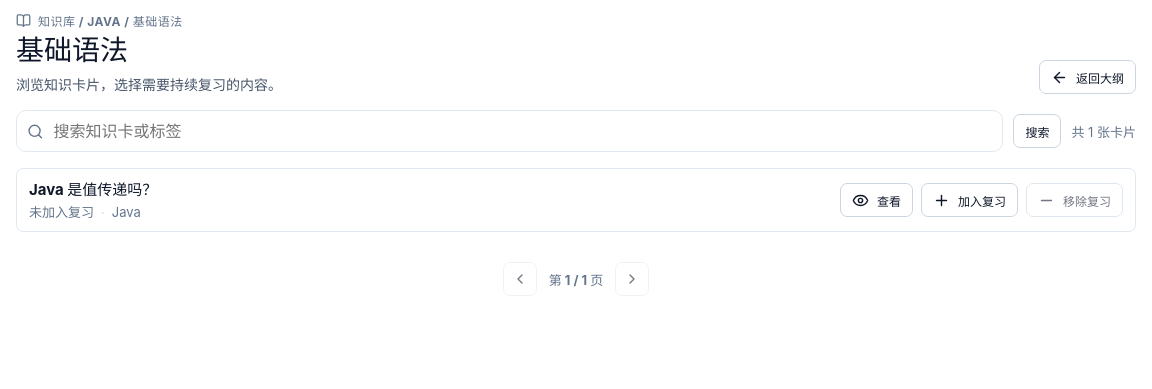
Scenario: 知识库分层导航 › 加入失败保留原状态，支持重新操作
Click the button "加入复习".
click(970, 200)  # box [921, 183, 1018, 217]
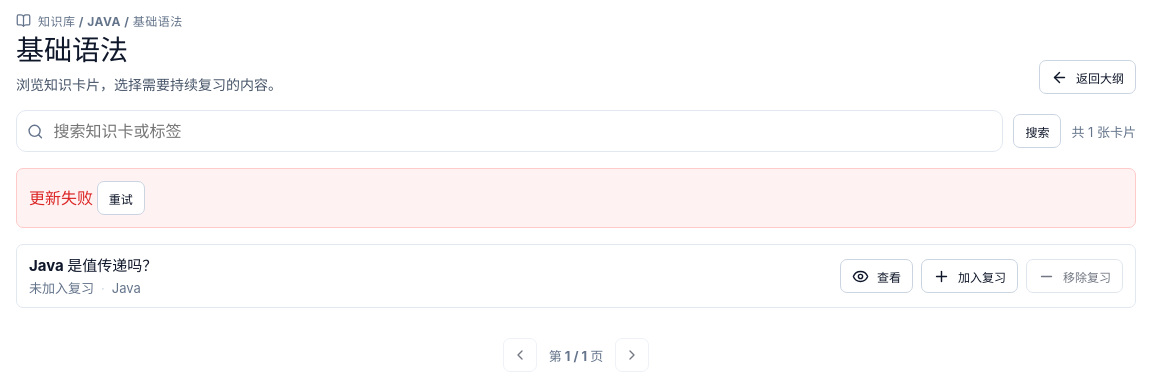
Check: the button "移除复习" is disabled, box [1026, 259, 1123, 293]
Check: the message shows "更新失败", box [29, 188, 93, 208]
Click the button "加入复习".
click(970, 276)  # box [921, 259, 1018, 293]
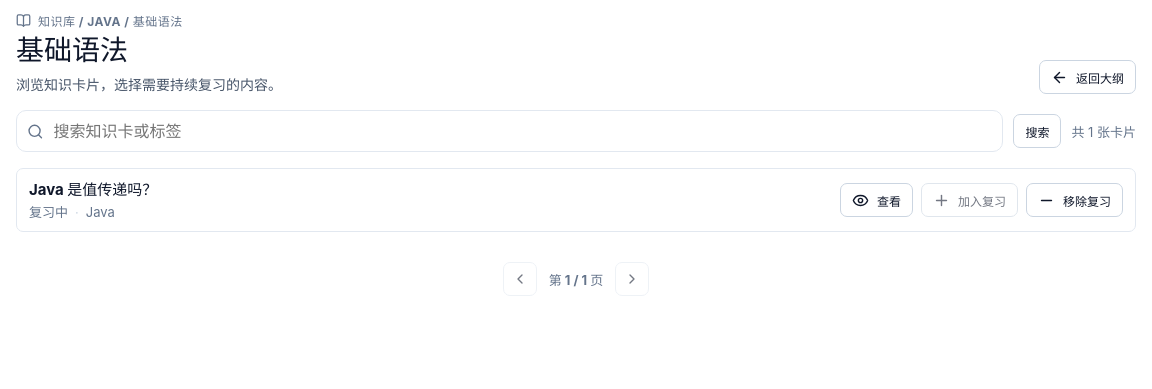
Check: the button "移除复习" is enabled, box [1026, 183, 1123, 217]
